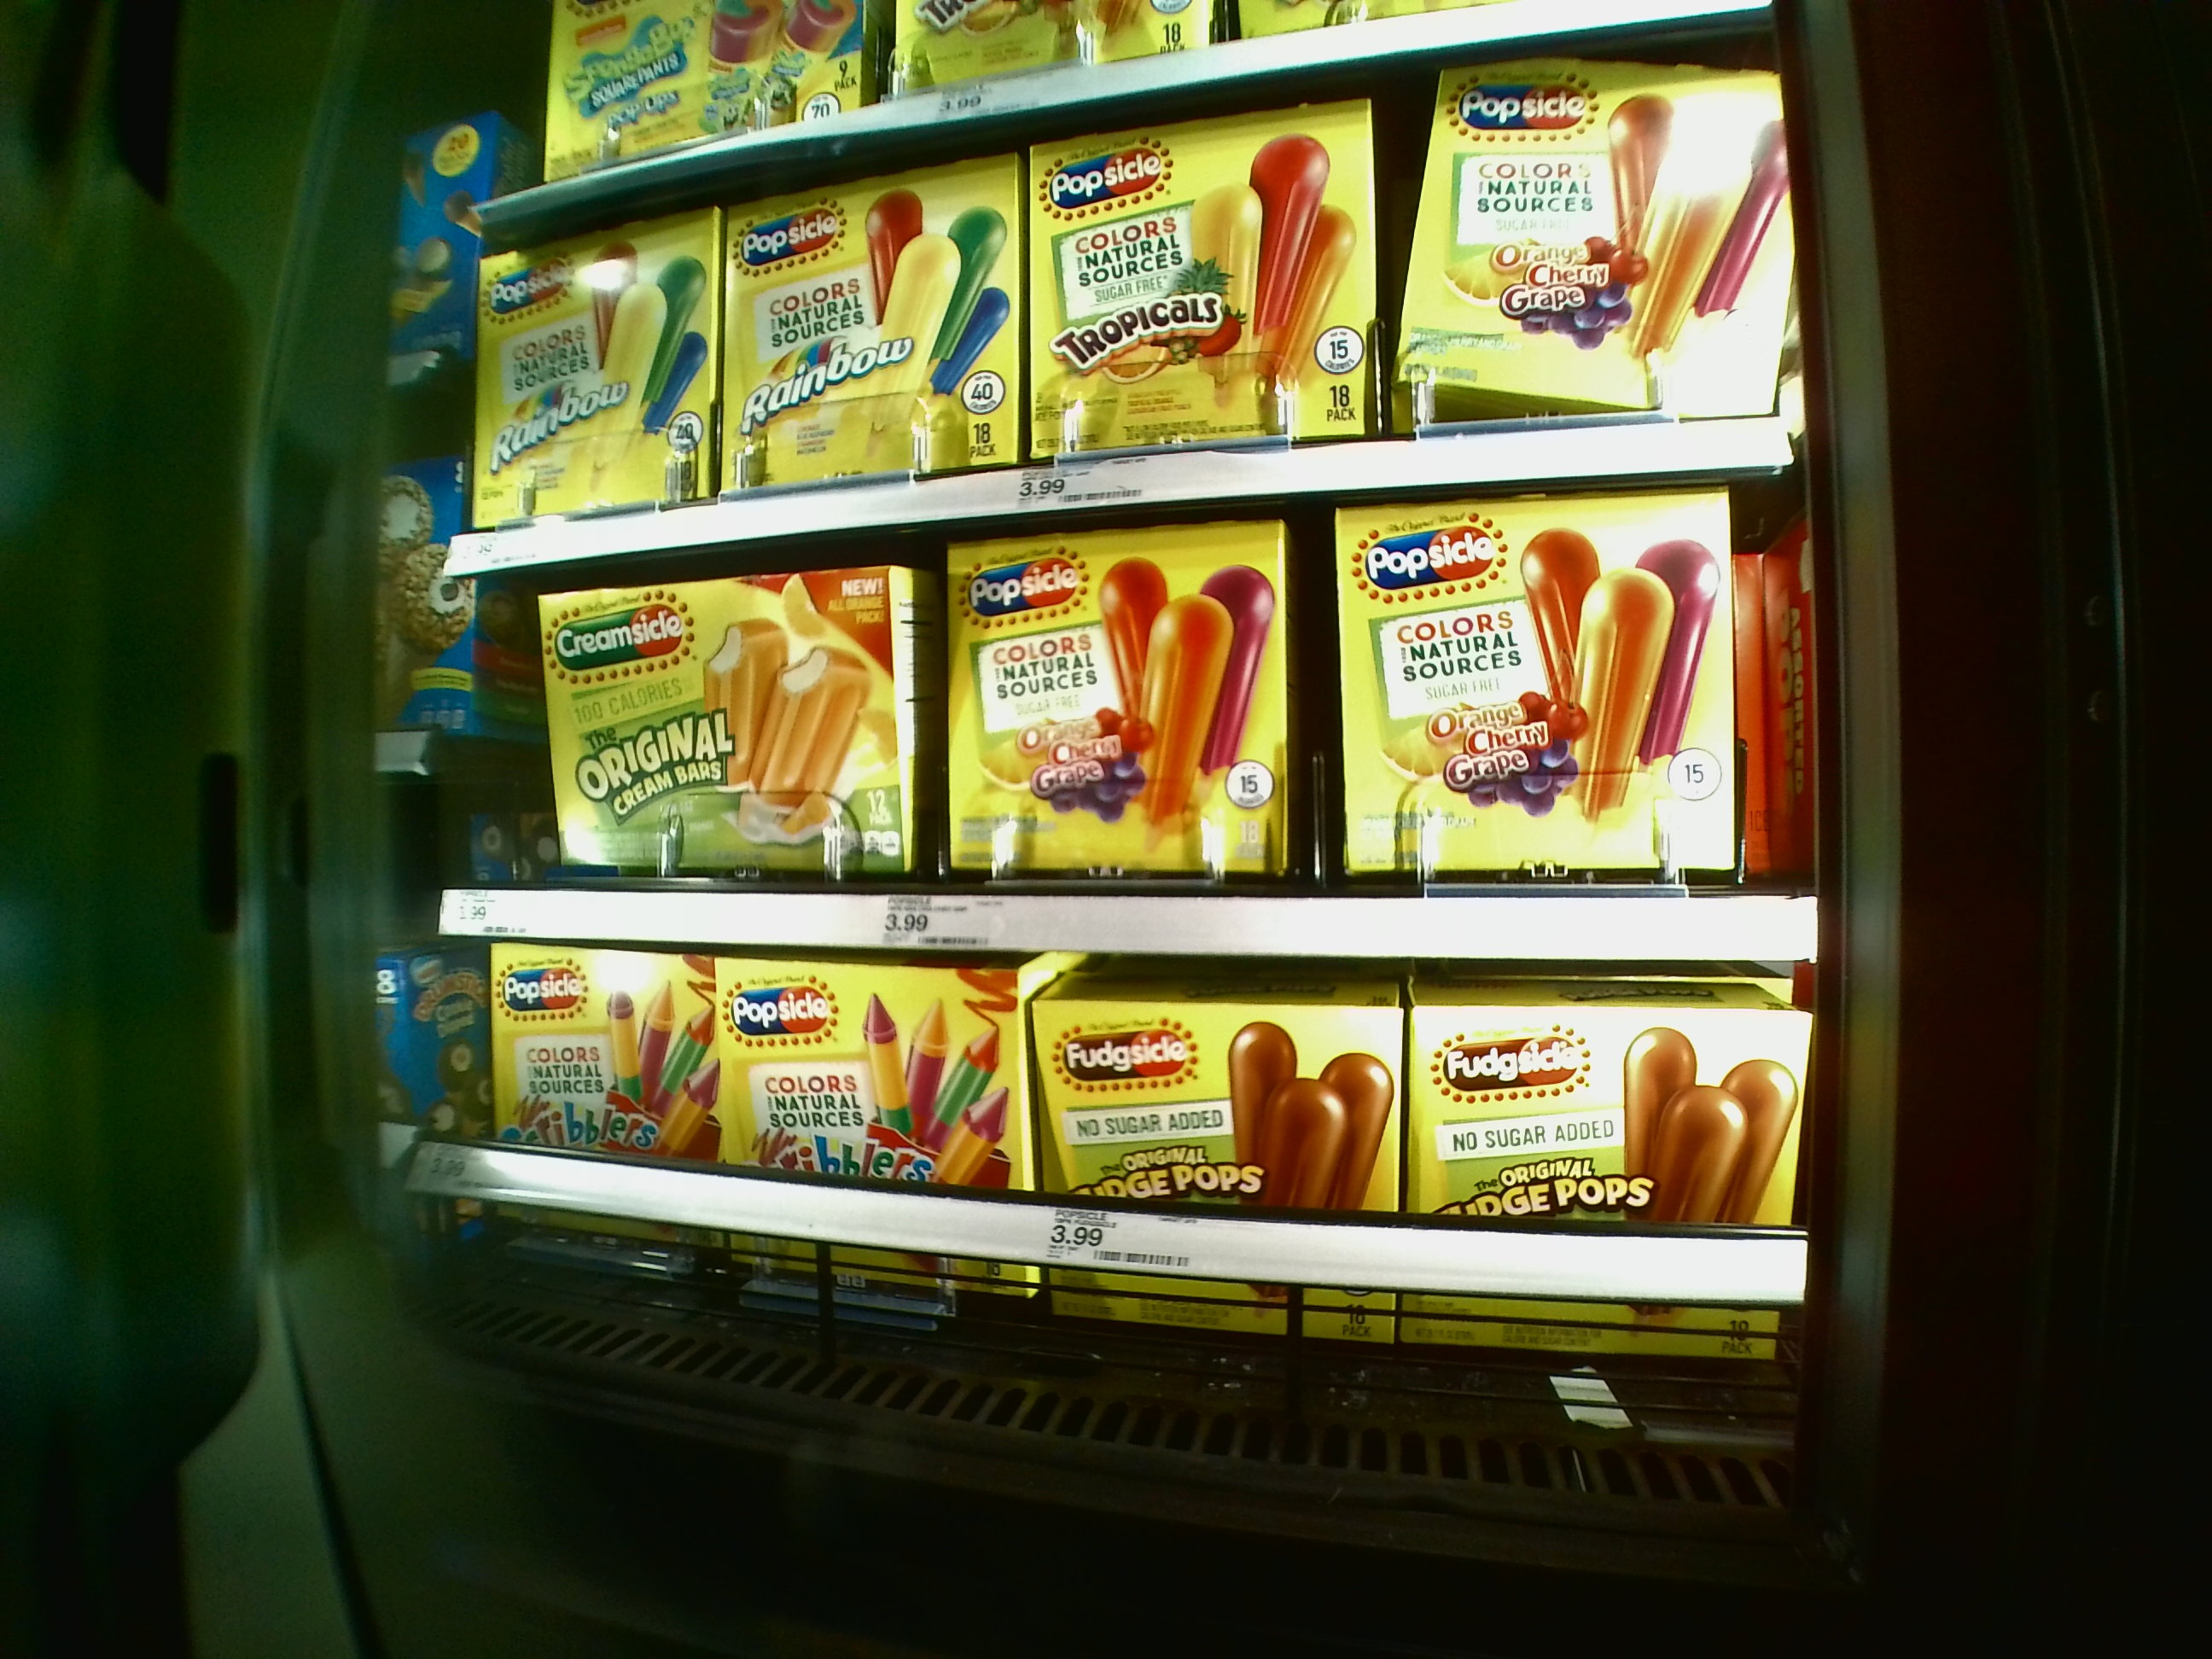shelf: (460, 951, 1799, 1457), (467, 71, 1797, 542), (455, 505, 1808, 951)
